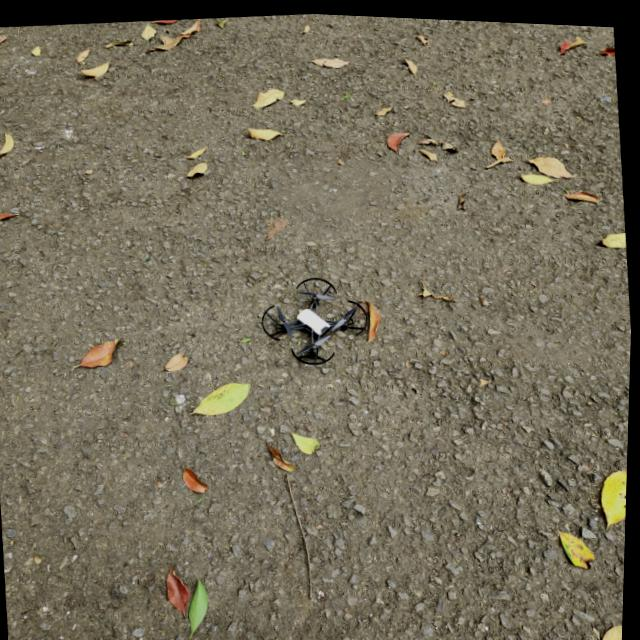drone: (263, 274, 369, 361)
